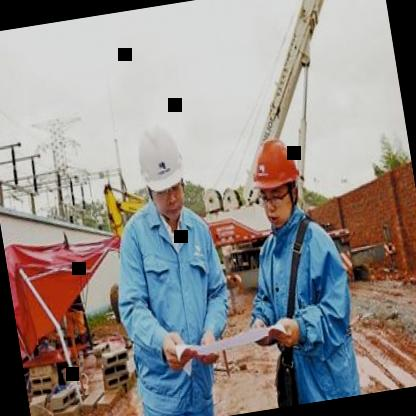helmet: (128, 112, 200, 230), (240, 128, 310, 231)
